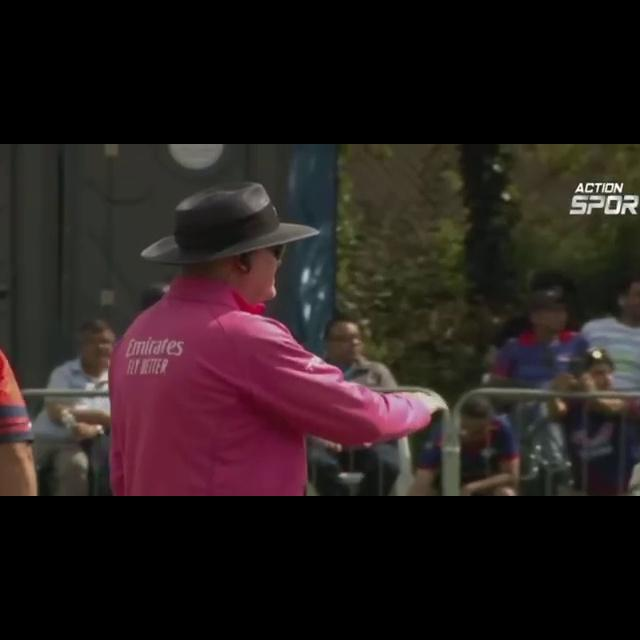umpire: (72, 177, 465, 475)
